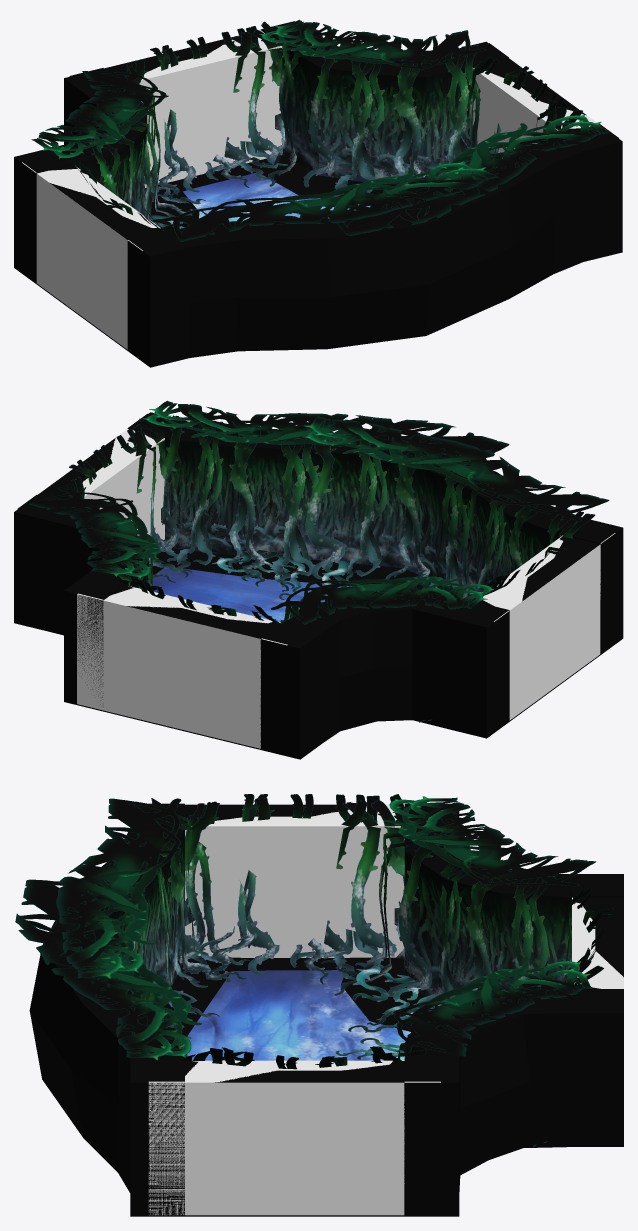
Rendered from Dungeon_012_RoadT_002.fbx.
3 renders of one model, top to bottom at view 1: azimuth 30°, elevation 25°; view 2: azimuth 150°, elevation 25°; view 3: azimuth 270°, elevation 25°, orthographic. The views are drawn at different scales.
Parts seen in each view (by area): view 1: Dan1, Dungeon_021_Tsuta_003 1, DoorWay_NavMask (×3), Dungeon_021_Tsuta_003, DoorWay_NavMask (1), un_021_Door_002_Object1 (×3), un_021_Door_002 (×3), Dan1_shadow, Dan2, Dun_011_Door_002_shadow; view 2: Dan1, DoorWay_NavMask (1) (×2), Dungeon_021_Tsuta_003 1, Dungeon_021_Tsuta_003, un_021_Door_002 (×3), DoorWay_NavMask (×3), Dan2, un_021_Door_002_Object1 (×3), Dan1_shadow, Dungeon_021_Tsuta_001; view 3: Dan1, Dungeon_021_Tsuta_003 1, DoorWay_NavMask (1), DoorWay_NavMask (×3), un_021_Door_002_Object1 (×3), Dan2, Dungeon_021_Tsuta_003, un_021_Door_002 (×3), Dan1_shadow, Dungeon_021_Tsuta_001, Dun_011_Door_002_shadow.
Part boxes in pixels (left/top/right/bottom): Dan1: left=14, top=23, right=622, bottom=367; Dungeon_021_Tsuta_003 1: left=31, top=19, right=609, bottom=241; DoorWay_NavMask (×3): left=37, top=30, right=561, bottom=228; Dungeon_021_Tsuta_003: left=84, top=35, right=557, bottom=232; DoorWay_NavMask (1): left=22, top=162, right=142, bottom=349; un_021_Door_002_Object1 (×3): left=70, top=21, right=582, bottom=228; un_021_Door_002 (×3): left=17, top=21, right=618, bottom=350; Dan1_shadow: left=145, top=155, right=404, bottom=229; Dan2: left=183, top=173, right=370, bottom=221; Dun_011_Door_002_shadow: left=171, top=165, right=255, bottom=191; Dan1: left=14, top=412, right=623, bottom=759; DoorWay_NavMask (1) (×2): left=77, top=533, right=615, bottom=748; Dungeon_021_Tsuta_003 1: left=28, top=400, right=609, bottom=624; Dungeon_021_Tsuta_003: left=52, top=415, right=595, bottom=622; un_021_Door_002 (×3): left=17, top=414, right=619, bottom=749; DoorWay_NavMask (×3): left=82, top=429, right=563, bottom=622; Dan2: left=147, top=566, right=378, bottom=622; un_021_Door_002_Object1 (×3): left=66, top=418, right=568, bottom=722; Dan1_shadow: left=156, top=548, right=473, bottom=601; Dungeon_021_Tsuta_001: left=212, top=548, right=348, bottom=601; Dan1: left=29, top=805, right=623, bottom=1216; Dungeon_021_Tsuta_003 1: left=15, top=796, right=596, bottom=1060; DoorWay_NavMask (1): left=148, top=1067, right=440, bottom=1215; DoorWay_NavMask (×3): left=185, top=805, right=623, bottom=1082; un_021_Door_002_Object1 (×3): left=179, top=794, right=613, bottom=1147; Dan2: left=180, top=970, right=410, bottom=1060; Dungeon_021_Tsuta_003: left=67, top=798, right=561, bottom=1059; un_021_Door_002 (×3): left=137, top=803, right=623, bottom=1216; Dan1_shadow: left=163, top=957, right=438, bottom=1045; Dungeon_021_Tsuta_001: left=335, top=967, right=441, bottom=1059; Dun_011_Door_002_shadow: left=232, top=958, right=350, bottom=970.
Size of what is drawn, in the model's own units: 9 by 2.36 by 8.34.
